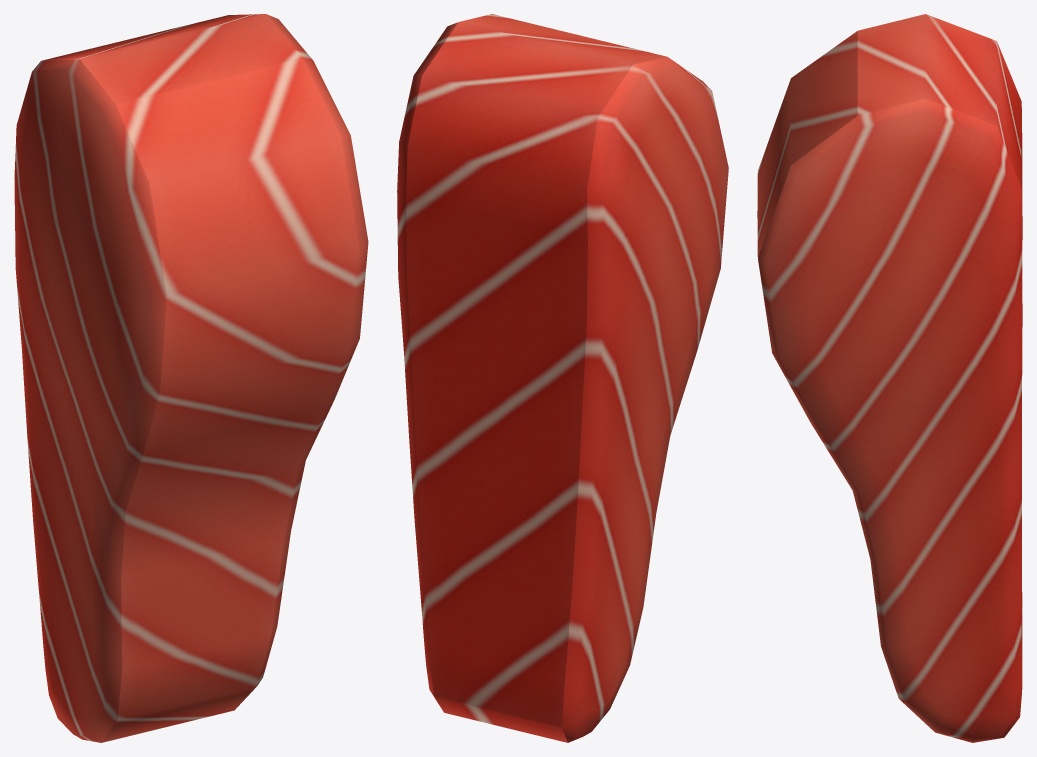
The model's file is Salmon_1.fbx.
The picture shows the model from 3 angles, left to right: view 1: azimuth 30°, elevation 25°; view 2: azimuth 150°, elevation 25°; view 3: azimuth 270°, elevation 25°; orthographic projection. The views are drawn at different scales.
Visible parts, largest first — view 1: Salmon_1; view 2: Salmon_1; view 3: Salmon_1.
Part boxes in pixels (<box>): Salmon_1: <box>14,14,368,742</box>; Salmon_1: <box>397,14,728,742</box>; Salmon_1: <box>757,14,1022,742</box>.
Size of the model in its own units: 0.0292 by 0.0792 by 0.0289.
1 material, 1 textured.
